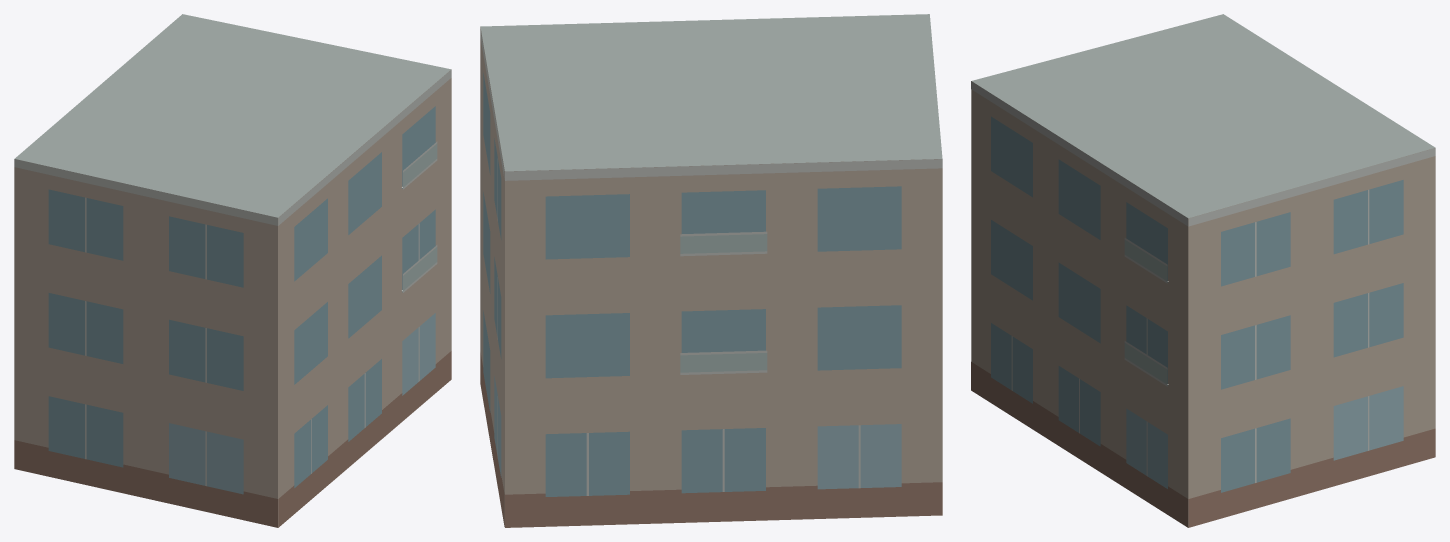
The model's file is survey-upis-33044296.glb.
3 renders of one model, left to right at view 1: azimuth 30°, elevation 25°; view 2: azimuth 150°, elevation 25°; view 3: azimuth 270°, elevation 25°, orthographic. The views are drawn at different scales.
Visible parts, largest first — view 1: survey-upis-33044296.tmp; view 2: survey-upis-33044296.tmp; view 3: survey-upis-33044296.tmp.
Part boxes in pixels (x1,y1,x2,y2): survey-upis-33044296.tmp: (14, 14, 451, 527); survey-upis-33044296.tmp: (480, 14, 942, 527); survey-upis-33044296.tmp: (971, 14, 1435, 527).
Bounding box in the file's own units: 12.96 × 9.15 × 12.45.
